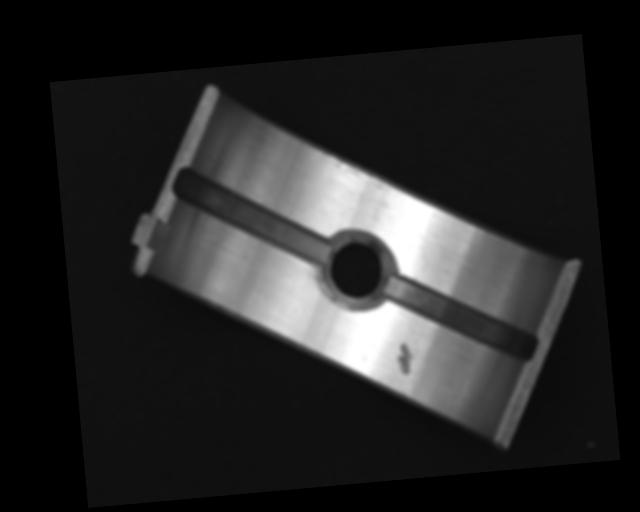bruise: (395, 341, 416, 377)
gap: (174, 156, 330, 277), (385, 265, 538, 374)
hole: (321, 231, 392, 315)
